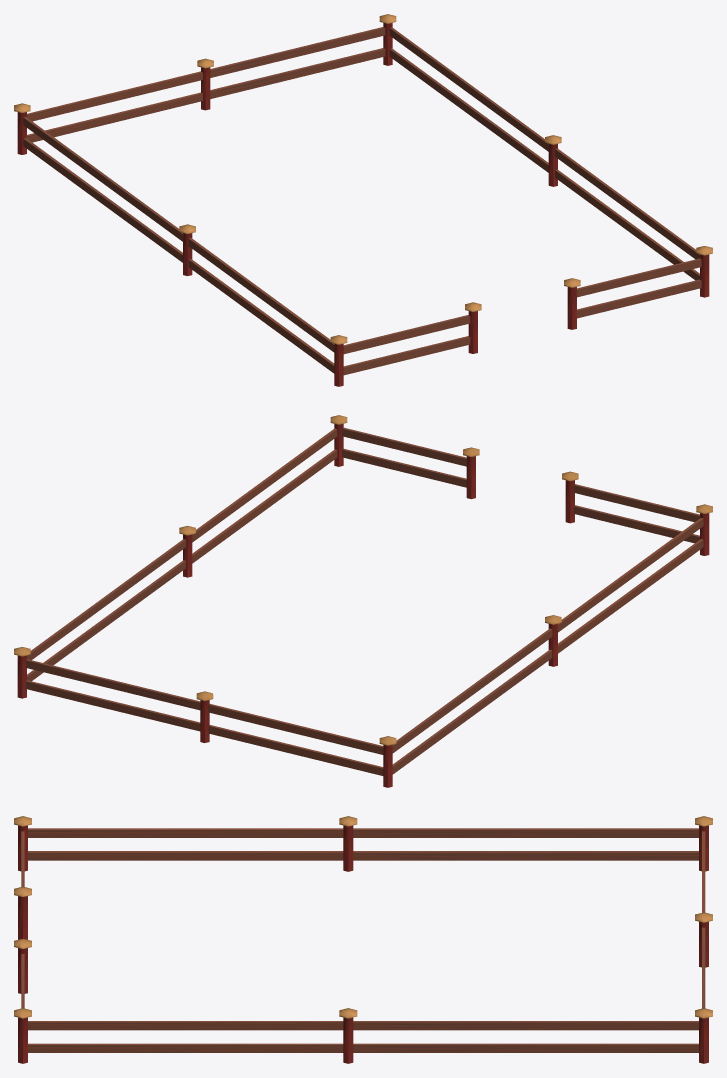
File: lunar-year__Fence02.glb
The picture shows the model from 3 angles, top to bottom: view 1: azimuth 30°, elevation 25°; view 2: azimuth 150°, elevation 25°; view 3: azimuth 270°, elevation 25°; orthographic projection. The views are drawn at different scales.
Visible parts, largest first — view 1: Fence02; view 2: Fence02; view 3: Fence02.
Part boxes in pixels (box(x1,y1,x2,y2)): Fence02: box(14, 14, 712, 386); Fence02: box(14, 415, 712, 787); Fence02: box(14, 816, 712, 1063).
Bounding box in the file's own units: 15.47 × 1.86 × 22.76.
3 materials, 3 textured.
